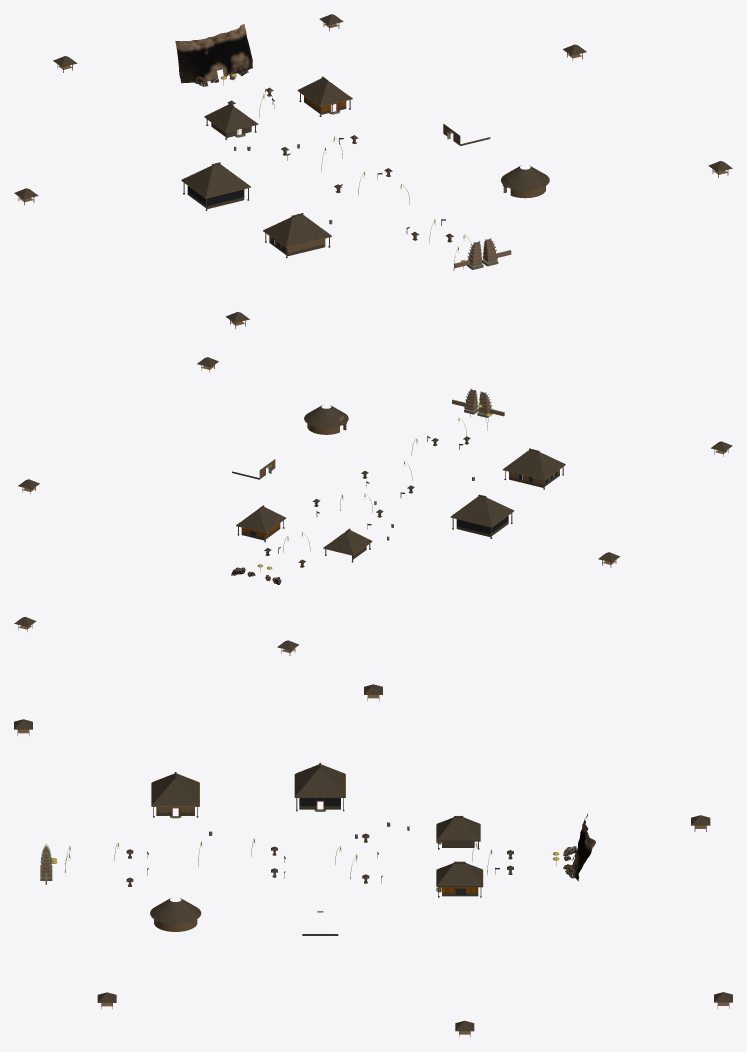
The model's file is room.gltf.
3 views of the same model, one above another, from view 1: azimuth 30°, elevation 25°; view 2: azimuth 150°, elevation 25°; view 3: azimuth 270°, elevation 25° (orthographic). The views are drawn at different scales.
Parts seen in each view (by area): view 1: shell_thatch, prop_rock, shell_bstone, shell_clay, shell_paras; view 2: shell_thatch, shell_bstone, shell_clay; view 3: shell_thatch, shell_bstone, prop_rock.
Part boxes in pixels (x1=…): shell_thatch: x1=14, y1=14, x2=732, y2=323; prop_rock: x1=175, y1=24, x2=252, y2=83; shell_bstone: x1=183, y1=92, x2=490, y2=258; shell_clay: x1=269, y1=123, x2=545, y2=252; shell_paras: x1=237, y1=111, x2=510, y2=269; shell_thatch: x1=14, y1=357, x2=732, y2=650; shell_bstone: x1=232, y1=440, x2=563, y2=567; shell_clay: x1=259, y1=415, x2=559, y2=484; shell_thatch: x1=14, y1=684, x2=732, y2=1031; shell_bstone: x1=128, y1=806, x2=512, y2=935; prop_rock: x1=572, y1=813, x2=595, y2=881.
Size of the model in its own units: 193 by 25.71 by 189.
Materials: 32 (32 with a texture image).
